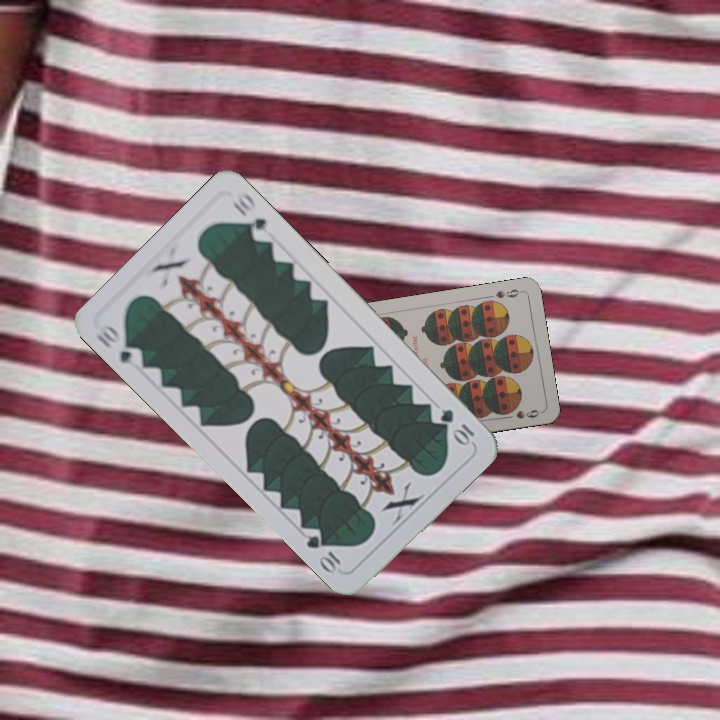G10: (92, 319, 147, 367), (436, 404, 477, 449)
S9: (491, 285, 525, 301)
